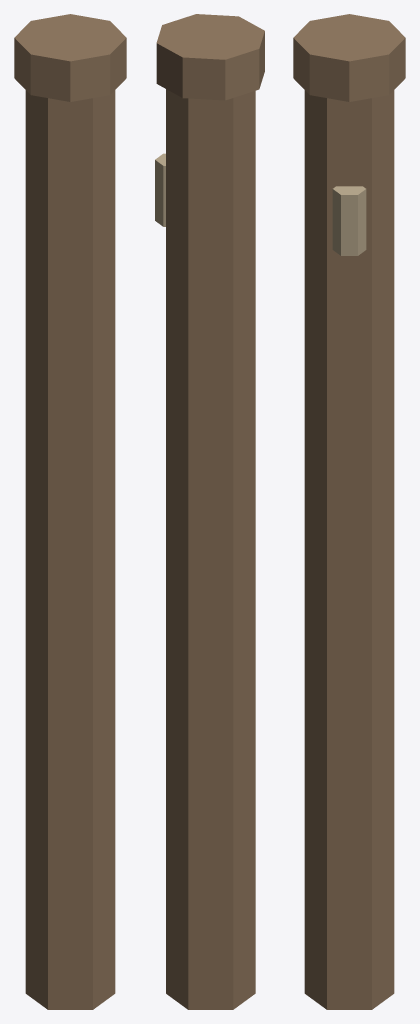
File: rope_post.glb
3 renders of one model, left to right at view 1: azimuth 90°, elevation 25°; view 2: azimuth 150°, elevation 25°; view 3: azimuth 270°, elevation 25°, orthographic.
Visible parts, largest first — view 1: FenceRopePost; view 2: FenceRopePost; view 3: FenceRopePost.
Boxes of the visible parts, box(x1,y1,x2,y2) form: FenceRopePost: box(14, 14, 126, 1009); FenceRopePost: box(155, 14, 264, 1009); FenceRopePost: box(293, 14, 405, 1009).
Size of the model in its own units: 0.103 by 0.94 by 0.1.
